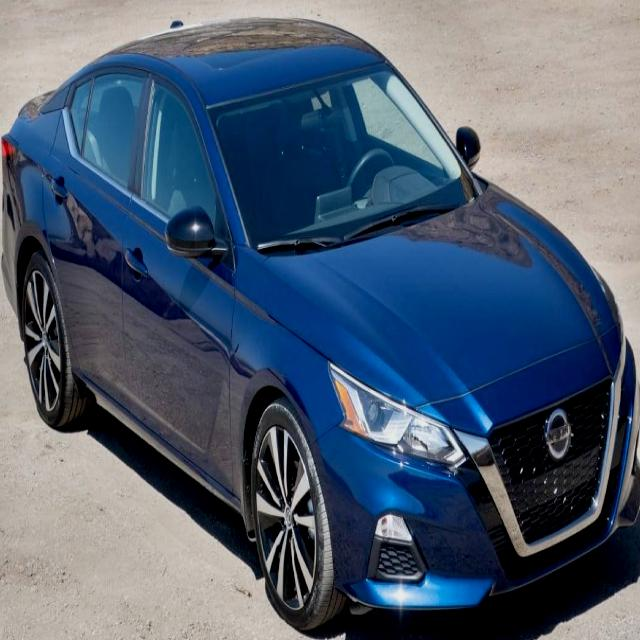blue: (6, 27, 629, 640)
